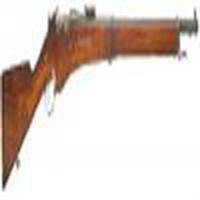gun: (3, 12, 199, 183)
